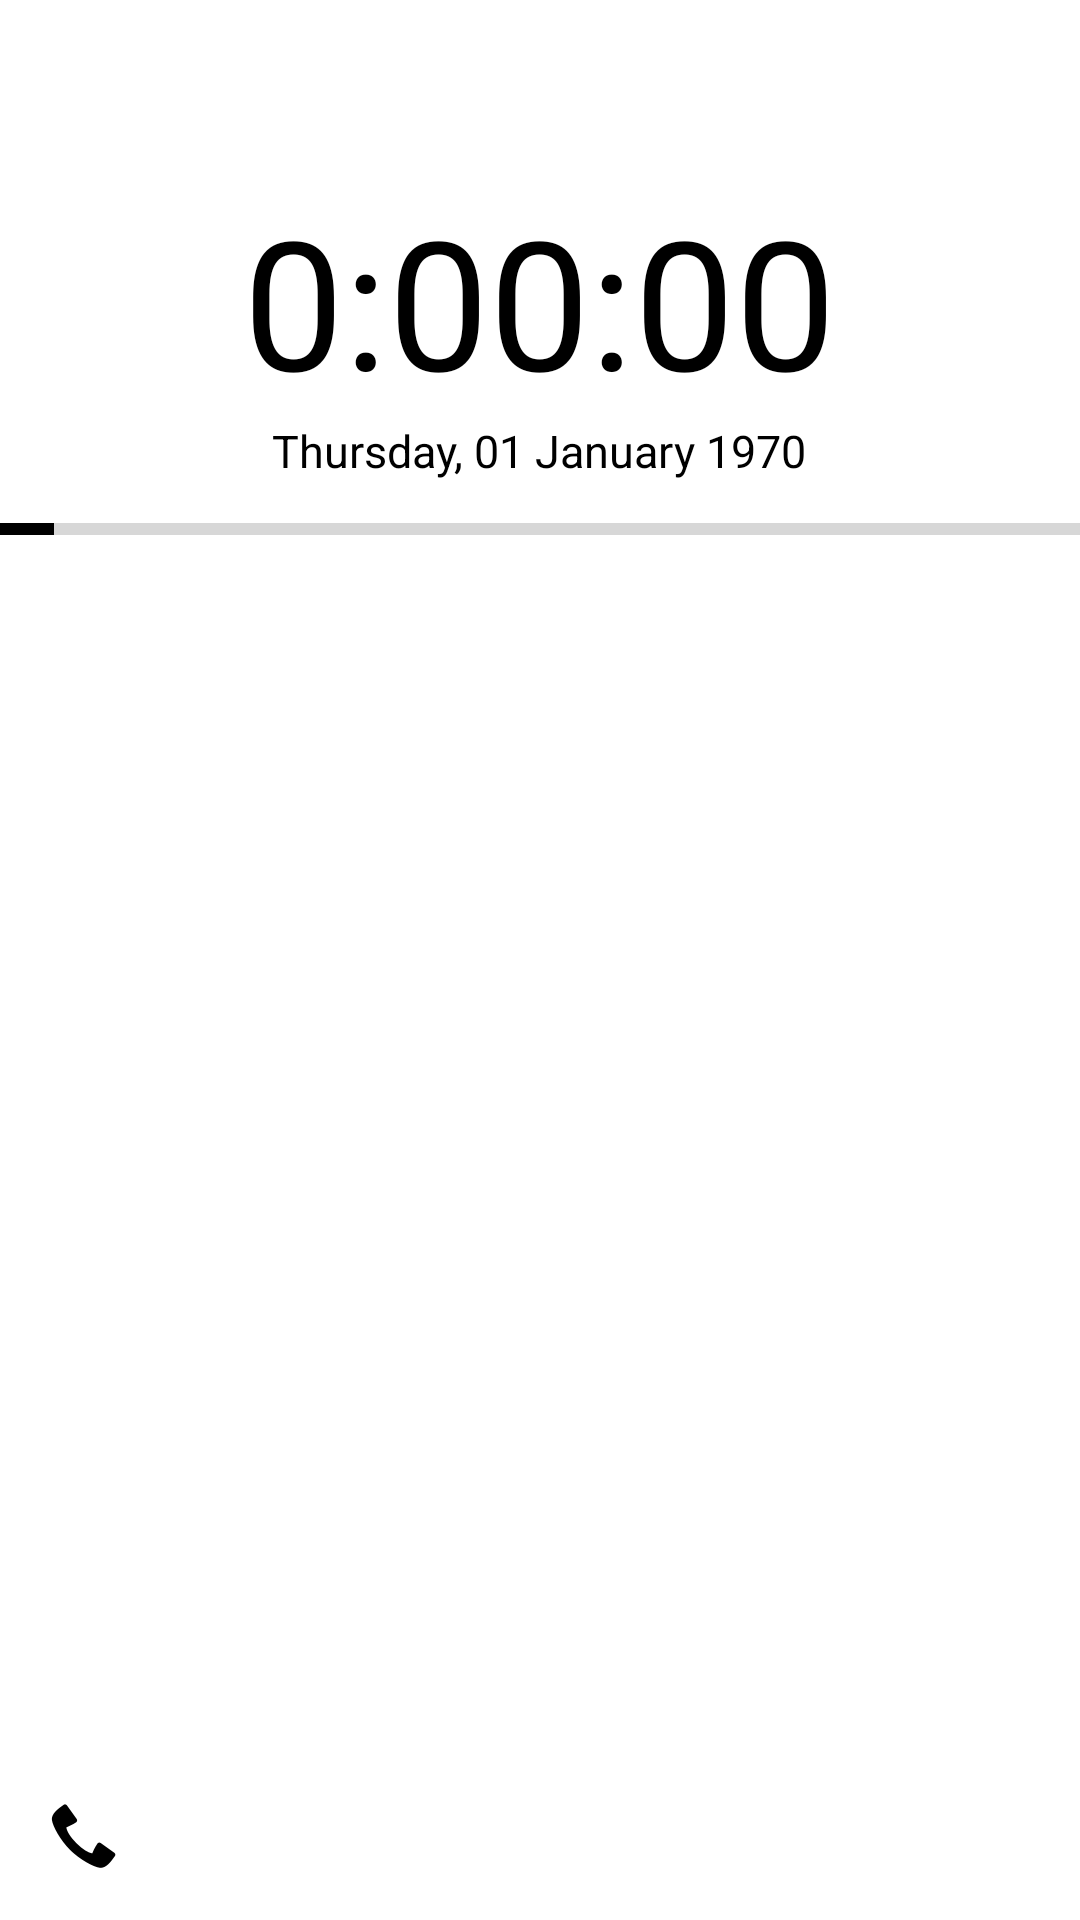

Screen size 1080*1920. Icon name, then its center in pixels as (x=x, y=y):
phone call: (x=84, y=1836)
